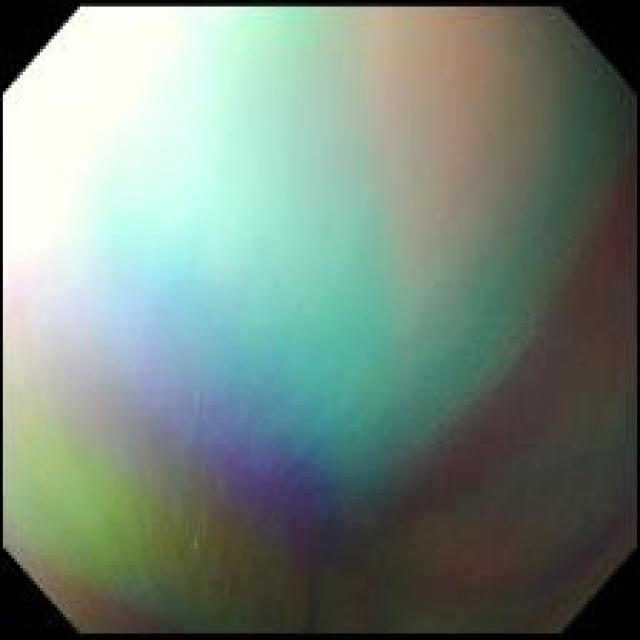color misalignment: (4, 6, 638, 640)
saturation: (4, 9, 197, 269)
